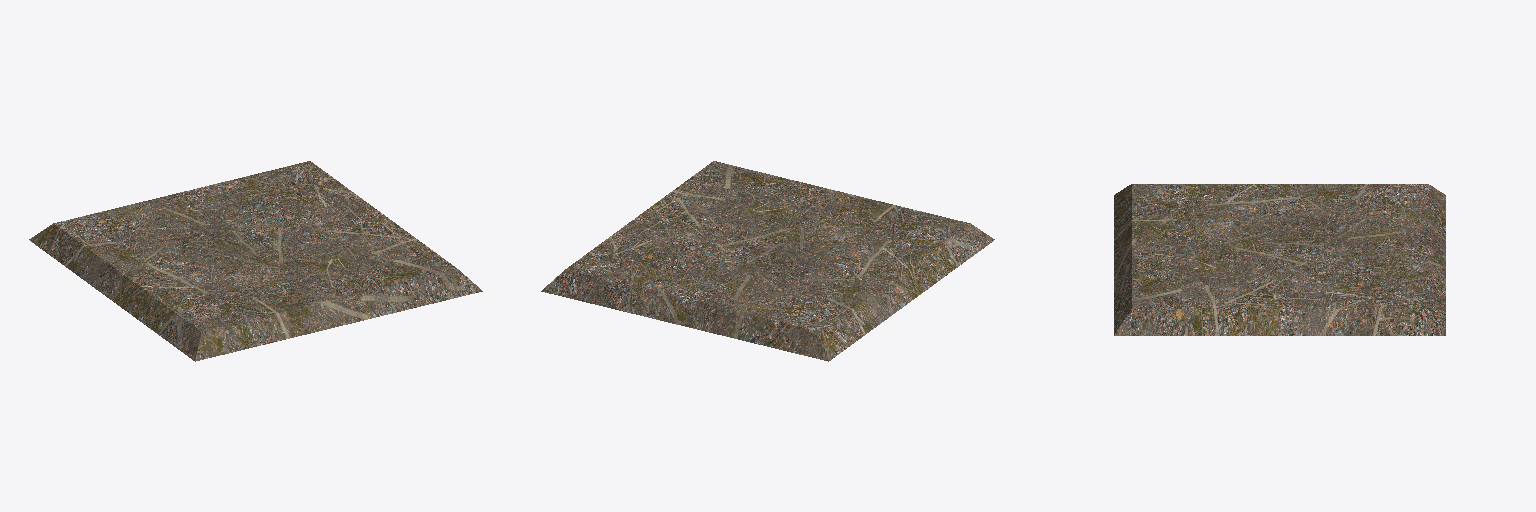
3 renders of one model, left to right at view 1: azimuth 30°, elevation 25°; view 2: azimuth 150°, elevation 25°; view 3: azimuth 270°, elevation 25°, orthographic.
Visible parts, largest first — view 1: Cube_Cube.001; view 2: Cube_Cube.001; view 3: Cube_Cube.001.
Part boxes in pixels (x1,y1,x2,y2): Cube_Cube.001: (29, 161, 482, 361); Cube_Cube.001: (541, 161, 994, 361); Cube_Cube.001: (1114, 184, 1445, 335).
Bounding box in the file's own units: 2.25 × 0.1435 × 2.25.
Materials: 1 (1 with a texture image).